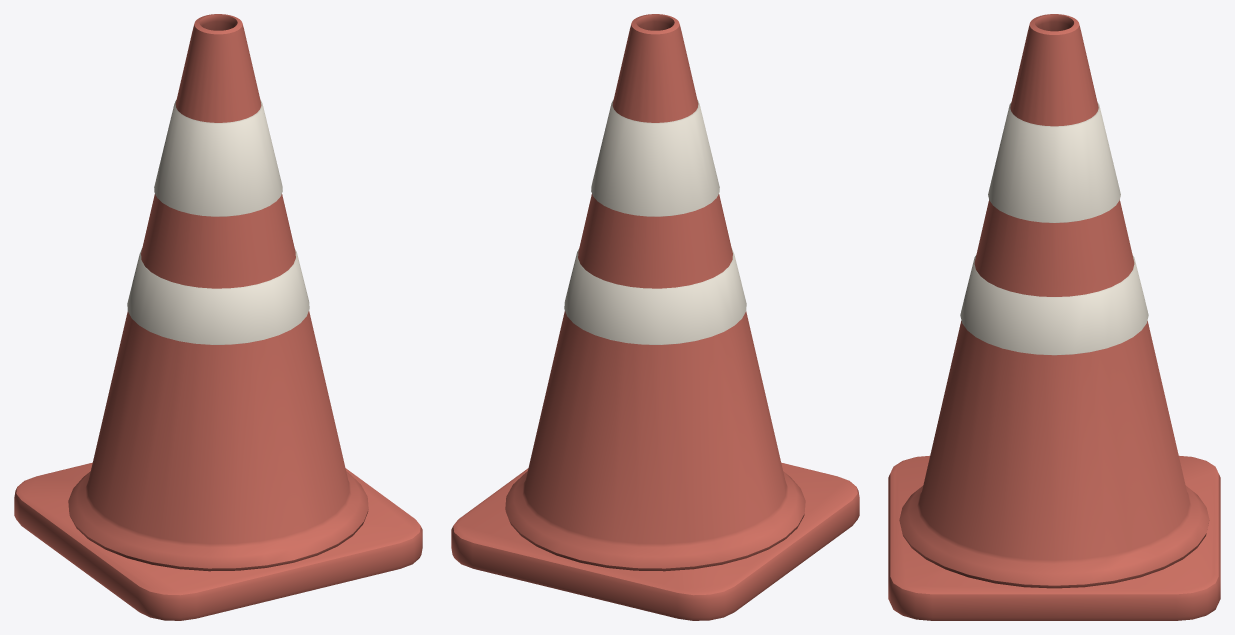
Rendered from junk_cone.glb.
3 renders of one model, left to right at view 1: azimuth 30°, elevation 25°; view 2: azimuth 150°, elevation 25°; view 3: azimuth 270°, elevation 25°, orthographic. The views are drawn at different scales.
Parts seen in each view (by area): view 1: PART; view 2: PART; view 3: PART.
Boxes of the visible parts, <box> form: PART: <box>14,14,422,620</box>; PART: <box>451,14,859,620</box>; PART: <box>888,14,1220,620</box>.
Size of the model in its own units: 0.3 by 0.528 by 0.3.
